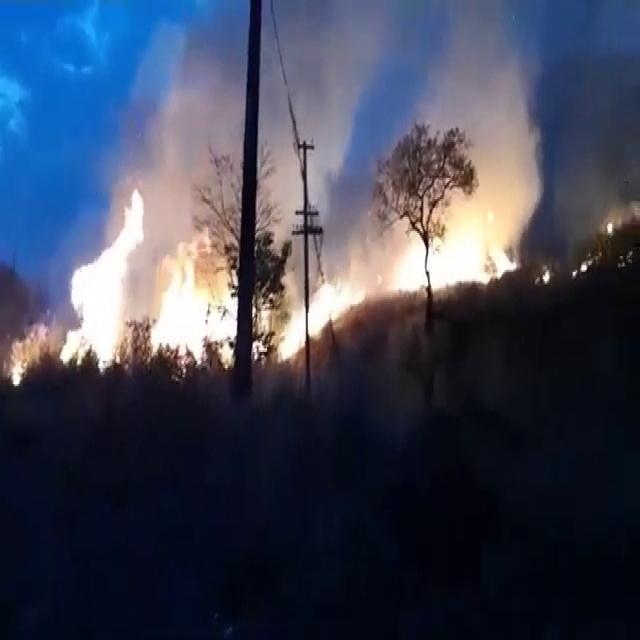Fire: (61, 180, 147, 368), (391, 206, 521, 295), (149, 252, 238, 370), (277, 278, 371, 360)
Smoke: (88, 0, 371, 366), (343, 7, 544, 315)
